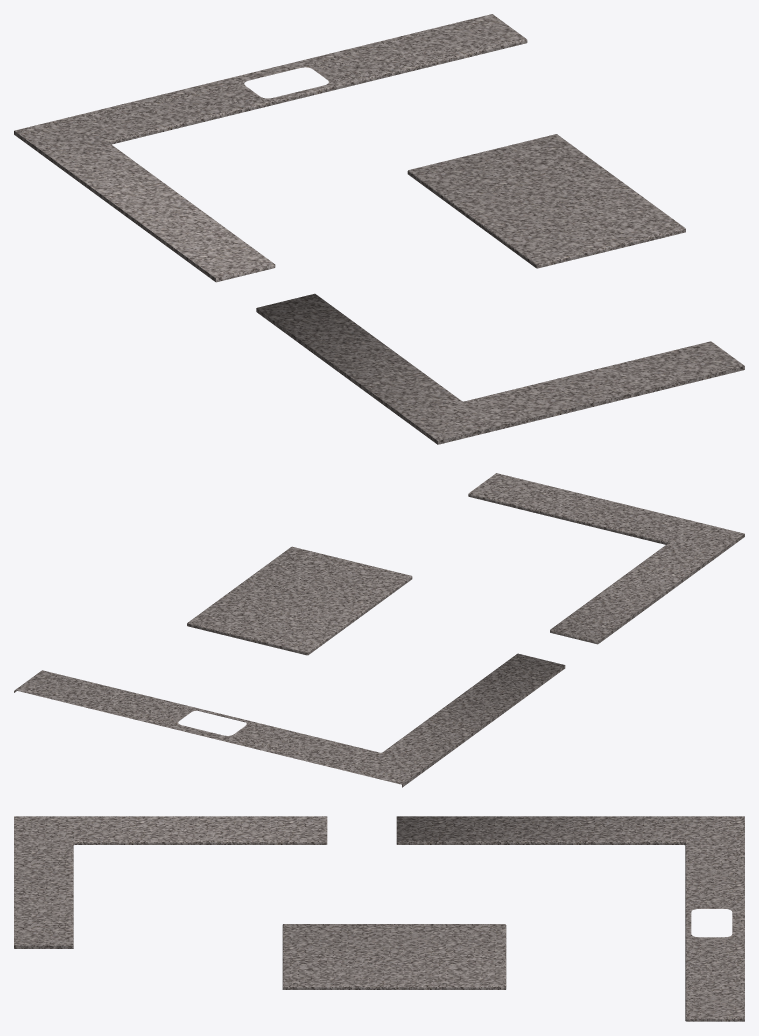
The model's file is 2345_kitchen_Countertops_GraniteCaledonia.gltf.
The picture shows the model from 3 angles, top to bottom: view 1: azimuth 30°, elevation 25°; view 2: azimuth 150°, elevation 25°; view 3: azimuth 270°, elevation 25°; orthographic projection. The views are drawn at different scales.
Visible parts, largest first — view 1: Line23257; view 2: Line23257; view 3: Line23257.
Part boxes in pixels (x1,y1,x2,y2): Line23257: [14, 14, 744, 444]; Line23257: [14, 473, 744, 787]; Line23257: [14, 816, 744, 1021].
Size of the model in its own units: 6.4 by 0.05 by 9.8.
Materials: 1 (1 with a texture image).
